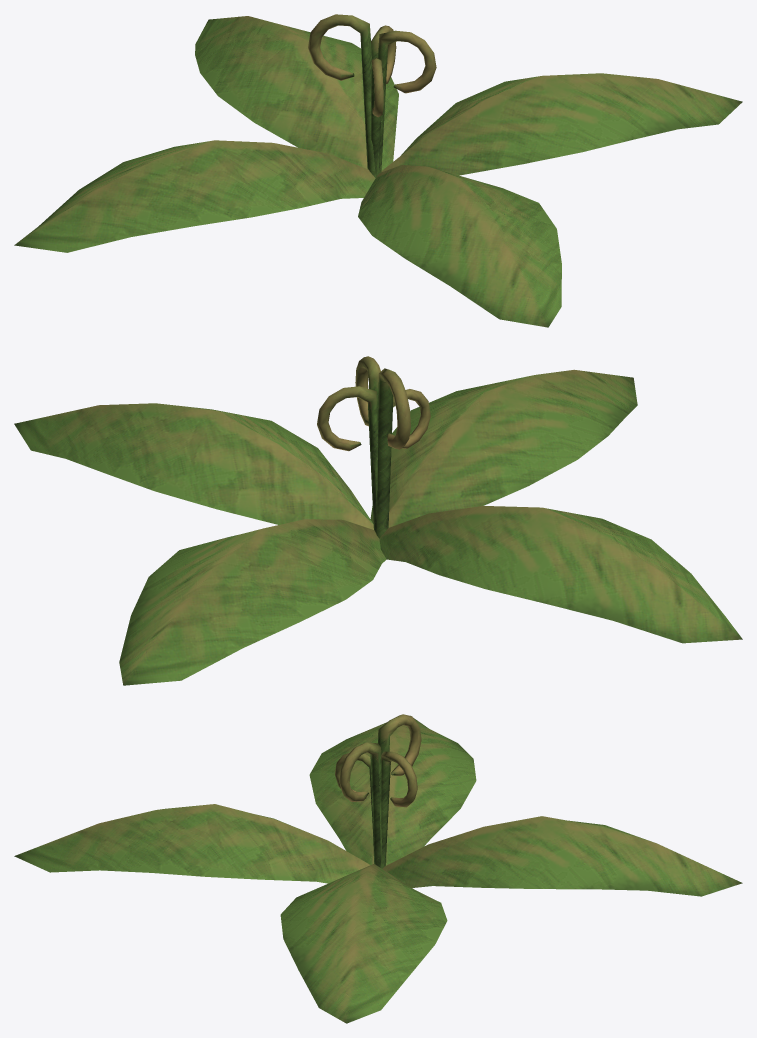
File: SmallPlant.fbx
The picture shows the model from 3 angles, top to bottom: view 1: azimuth 30°, elevation 25°; view 2: azimuth 150°, elevation 25°; view 3: azimuth 270°, elevation 25°; orthographic projection. The views are drawn at different scales.
Visible parts, largest first — view 1: SmallPlant; view 2: SmallPlant; view 3: SmallPlant.
Part boxes in pixels (bbox=[...]): SmallPlant: bbox=[14, 14, 742, 327]; SmallPlant: bbox=[14, 356, 742, 685]; SmallPlant: bbox=[14, 714, 742, 1023].
Size of the model in its own units: 0.4961 by 0.1186 by 0.4961.
Materials: 1 (1 with a texture image).
